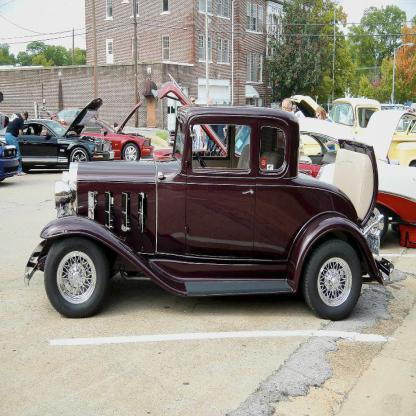Car: (23, 103, 394, 320), (151, 74, 415, 246), (17, 96, 114, 172), (81, 103, 154, 162)
